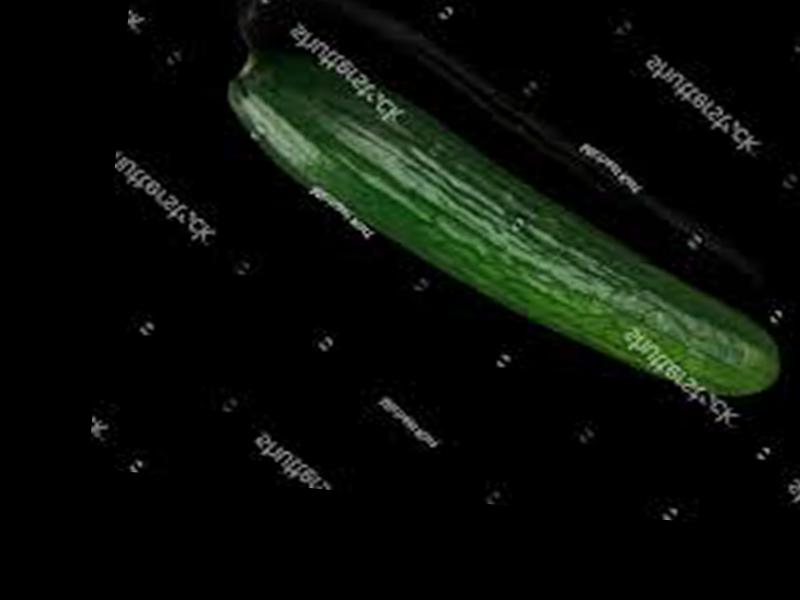Cucumber: (205, 39, 800, 402)
